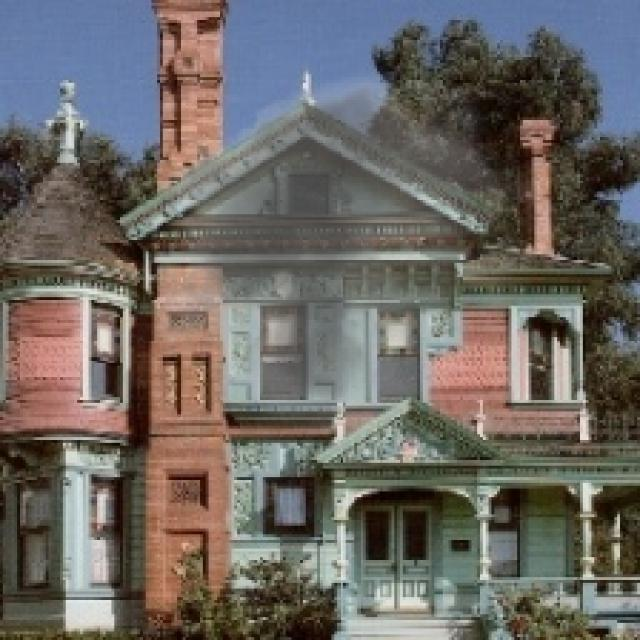Smoke: (132, 57, 552, 437)
